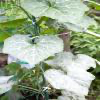Squash Powdery mildew leaf: (0, 30, 64, 64), (43, 67, 95, 98), (20, 0, 86, 20), (53, 51, 99, 74)
